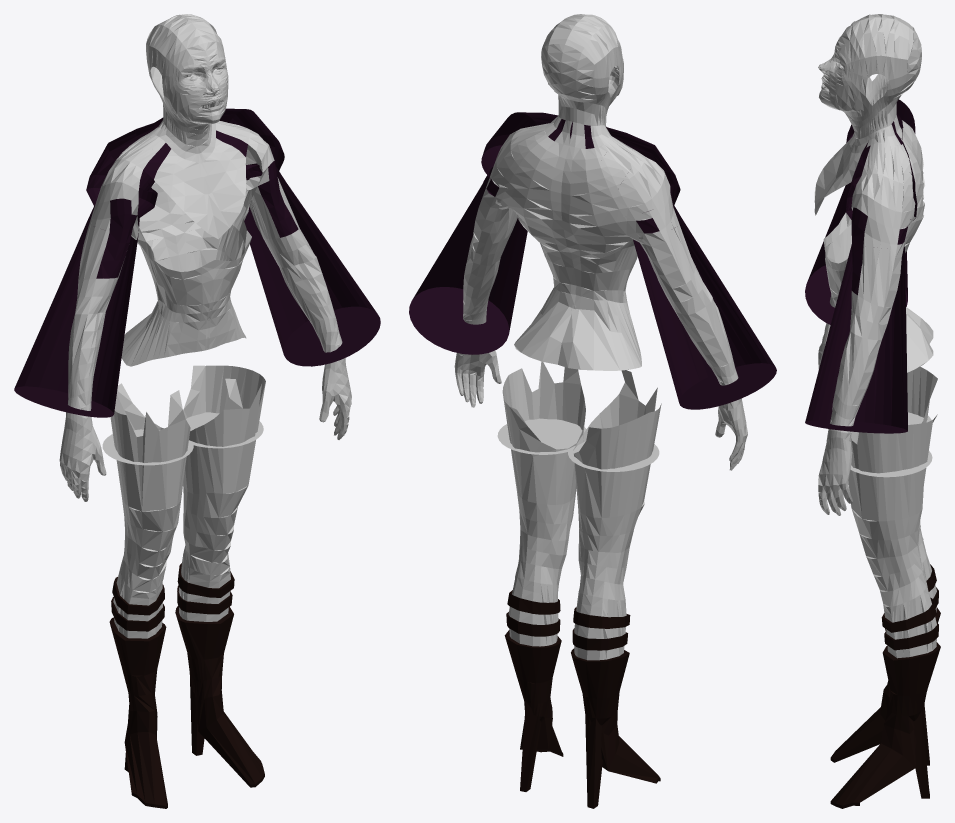
File: girl.obj
3 views of the same model, side by side, from view 1: azimuth 30°, elevation 25°; view 2: azimuth 150°, elevation 25°; view 3: azimuth 270°, elevation 25° (orthographic).
Visible parts, largest first — view 1: Group39313.001, manga_Group39313.003, bota_Group39313.004; view 2: Group39313.001, manga_Group39313.003, bota_Group39313.004; view 3: Group39313.001, manga_Group39313.003, bota_Group39313.004.
Part boxes in pixels (x1,y1,x2,y2): Group39313.001: (59, 14, 351, 638); manga_Group39313.003: (14, 108, 380, 417); bota_Group39313.004: (109, 563, 264, 808); Group39313.001: (454, 14, 747, 660); manga_Group39313.003: (409, 112, 776, 409); bota_Group39313.004: (504, 590, 660, 808); Group39313.001: (814, 14, 937, 658); manga_Group39313.003: (805, 99, 917, 433); bota_Group39313.004: (830, 564, 940, 808).
Size of the model in its own units: 2.47 by 5.1 by 0.8209.
